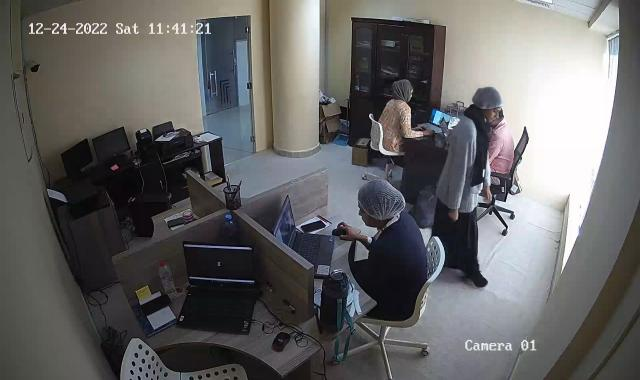hairnet: (358, 177, 405, 224), (473, 84, 502, 126)
no_hairnet: (390, 79, 415, 104)
